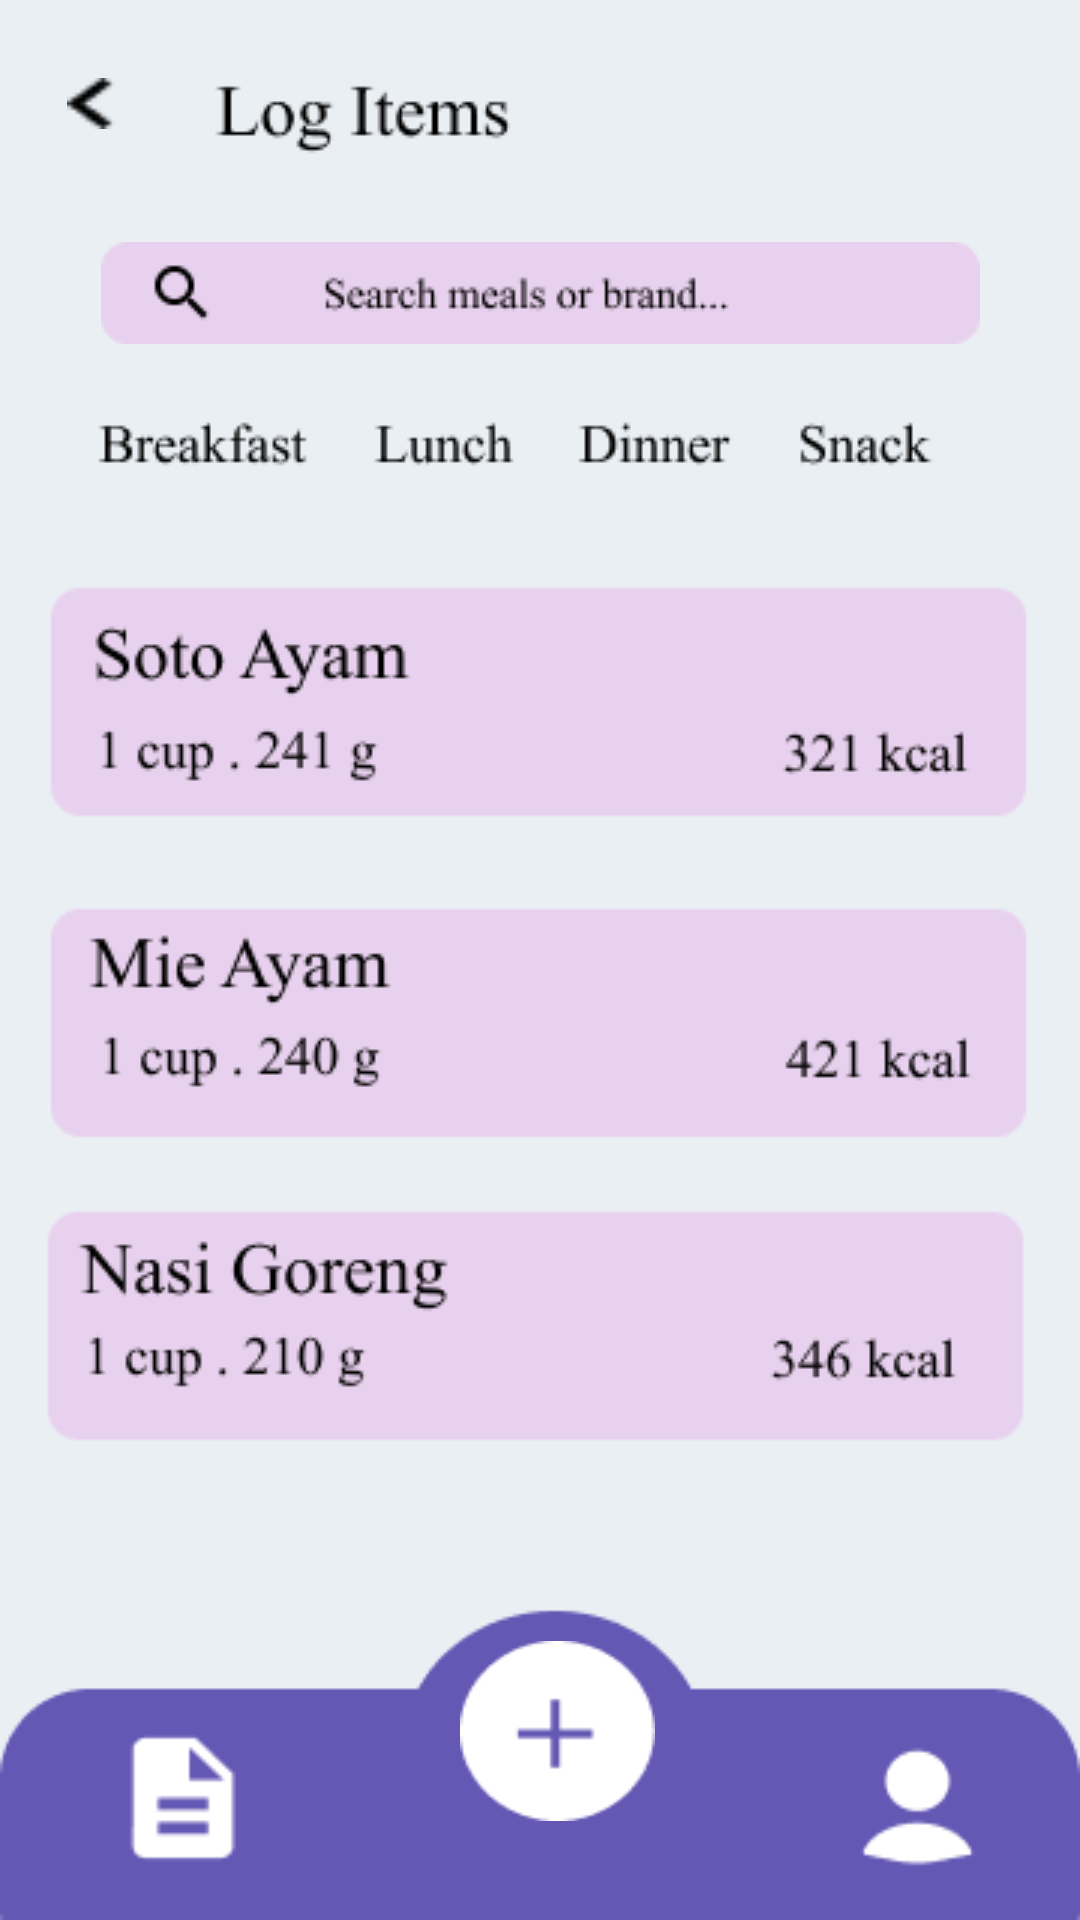

Where icons sit on this 1080px×1920px app screen, as (x1, y1, x2, y2):
description: (130, 1737, 235, 1859)
plus: (460, 1641, 655, 1821)
user: (863, 1749, 972, 1865)
